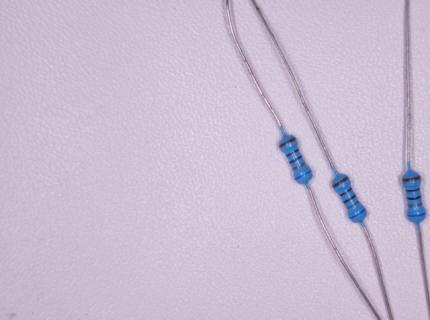Blue band: (294, 169, 312, 180), (348, 208, 366, 219), (408, 212, 426, 217)
Grey band: (346, 200, 360, 210), (292, 162, 306, 170), (408, 202, 422, 207)
